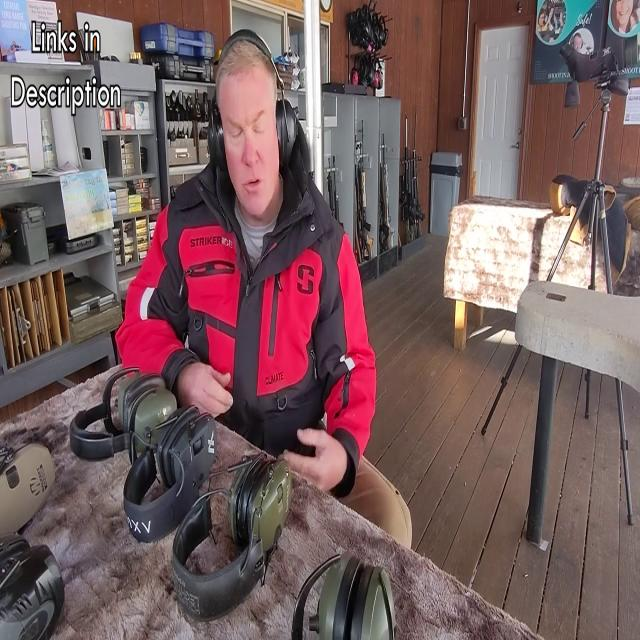earmuff: (273, 95, 300, 173), (202, 99, 228, 177)
